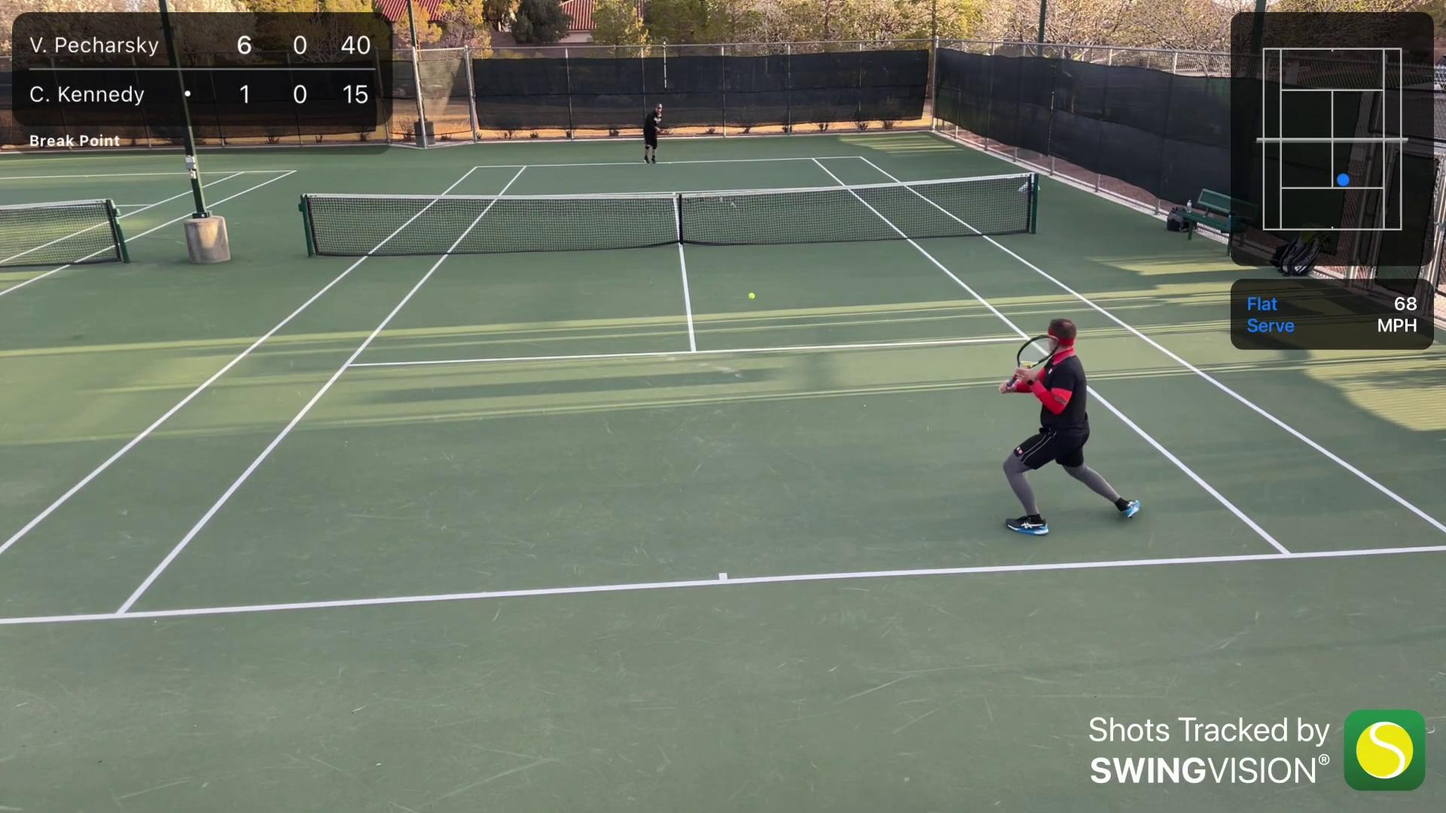ball: (747, 291, 758, 302)
